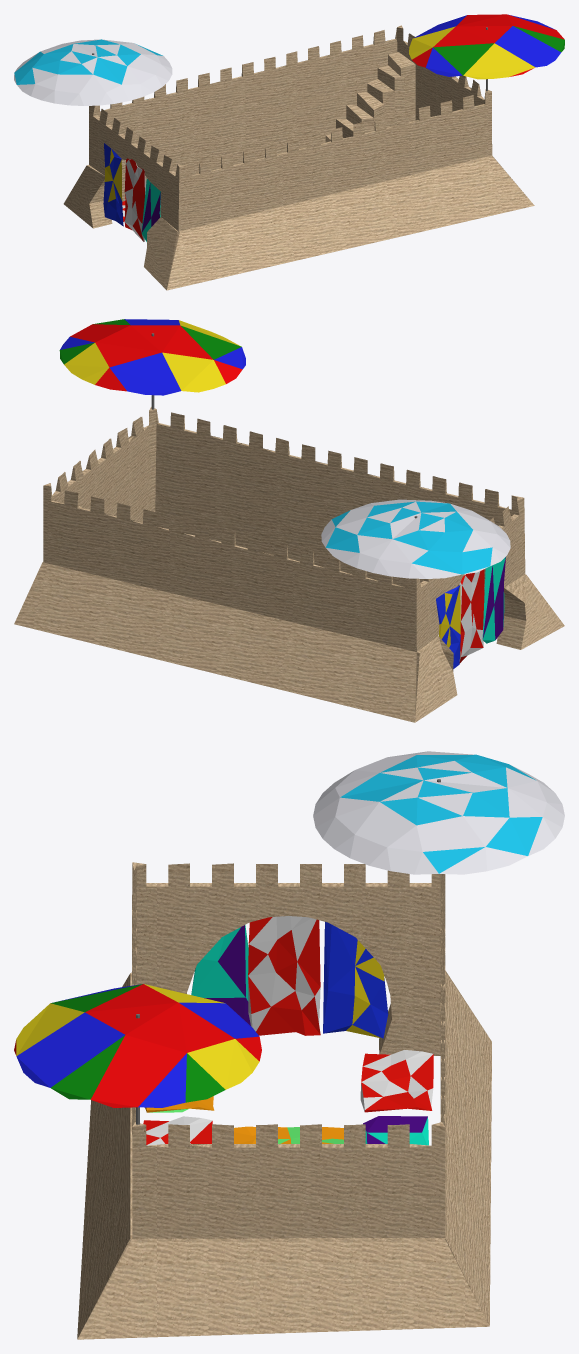
Rendered from Sand Castle.glb.
3 views of the same model, one above another, from view 1: azimuth 30°, elevation 25°; view 2: azimuth 150°, elevation 25°; view 3: azimuth 270°, elevation 25° (orthographic). The views are drawn at different scales.
Parts seen in each view (by area): view 1: Castle Walls, Beach Umbrella, Beach Umbrella.001, Beach Towel, Towel 5, Towel 2; view 2: Castle Walls, Beach Umbrella, Beach Umbrella.001, Beach Towel, Towel 2, Towel 5; view 3: Castle Walls, Beach Umbrella, Beach Umbrella.001, Beach Towel, Towel 5, Beach Towel.002, Towel 2, Towel 2.002, Beach Towel.003, Beach Towel 3.001.
Boxes of the visible parts, x1,y1,x2,y2 form: Castle Walls: [63, 25, 534, 290]; Beach Umbrella: [14, 39, 172, 105]; Beach Umbrella.001: [409, 14, 564, 91]; Beach Towel: [124, 158, 145, 241]; Towel 5: [103, 143, 123, 226]; Towel 2: [141, 178, 160, 241]; Castle Walls: [14, 407, 564, 722]; Beach Umbrella: [321, 499, 510, 578]; Beach Umbrella.001: [59, 319, 245, 409]; Beach Towel: [459, 569, 484, 663]; Towel 2: [482, 557, 505, 643]; Towel 5: [436, 585, 460, 668]; Castle Walls: [77, 862, 491, 1339]; Beach Umbrella: [313, 751, 564, 874]; Beach Umbrella.001: [14, 984, 261, 1124]; Beach Towel: [248, 916, 320, 1035]; Towel 5: [323, 922, 388, 1038]; Beach Towel.002: [360, 1050, 433, 1112]; Towel 2: [191, 925, 250, 1025]; Towel 2.002: [363, 1116, 428, 1145]; Beach Towel.003: [143, 1116, 212, 1145]; Beach Towel 3.001: [234, 1126, 343, 1143].
Size of what is drawn, in the model's own units: 13.09 by 4.96 by 8.05.
28 materials, 1 textured.
